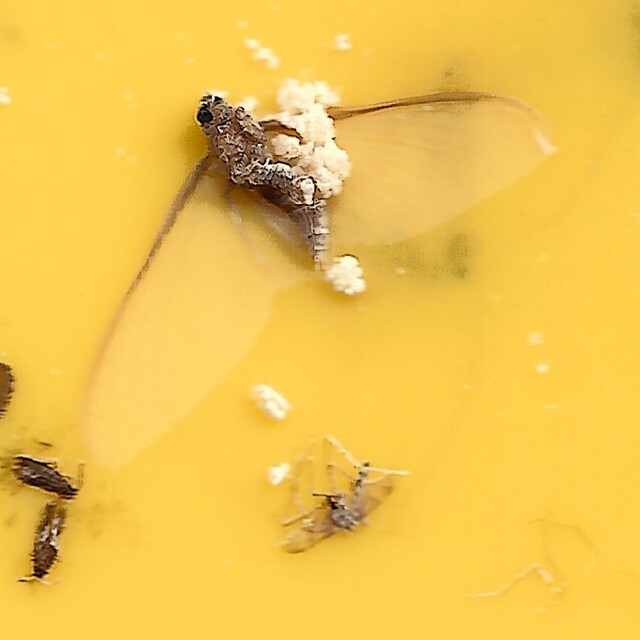Ephemeroptera: (80, 86, 560, 488)
Nematocera: (282, 461, 399, 554)
